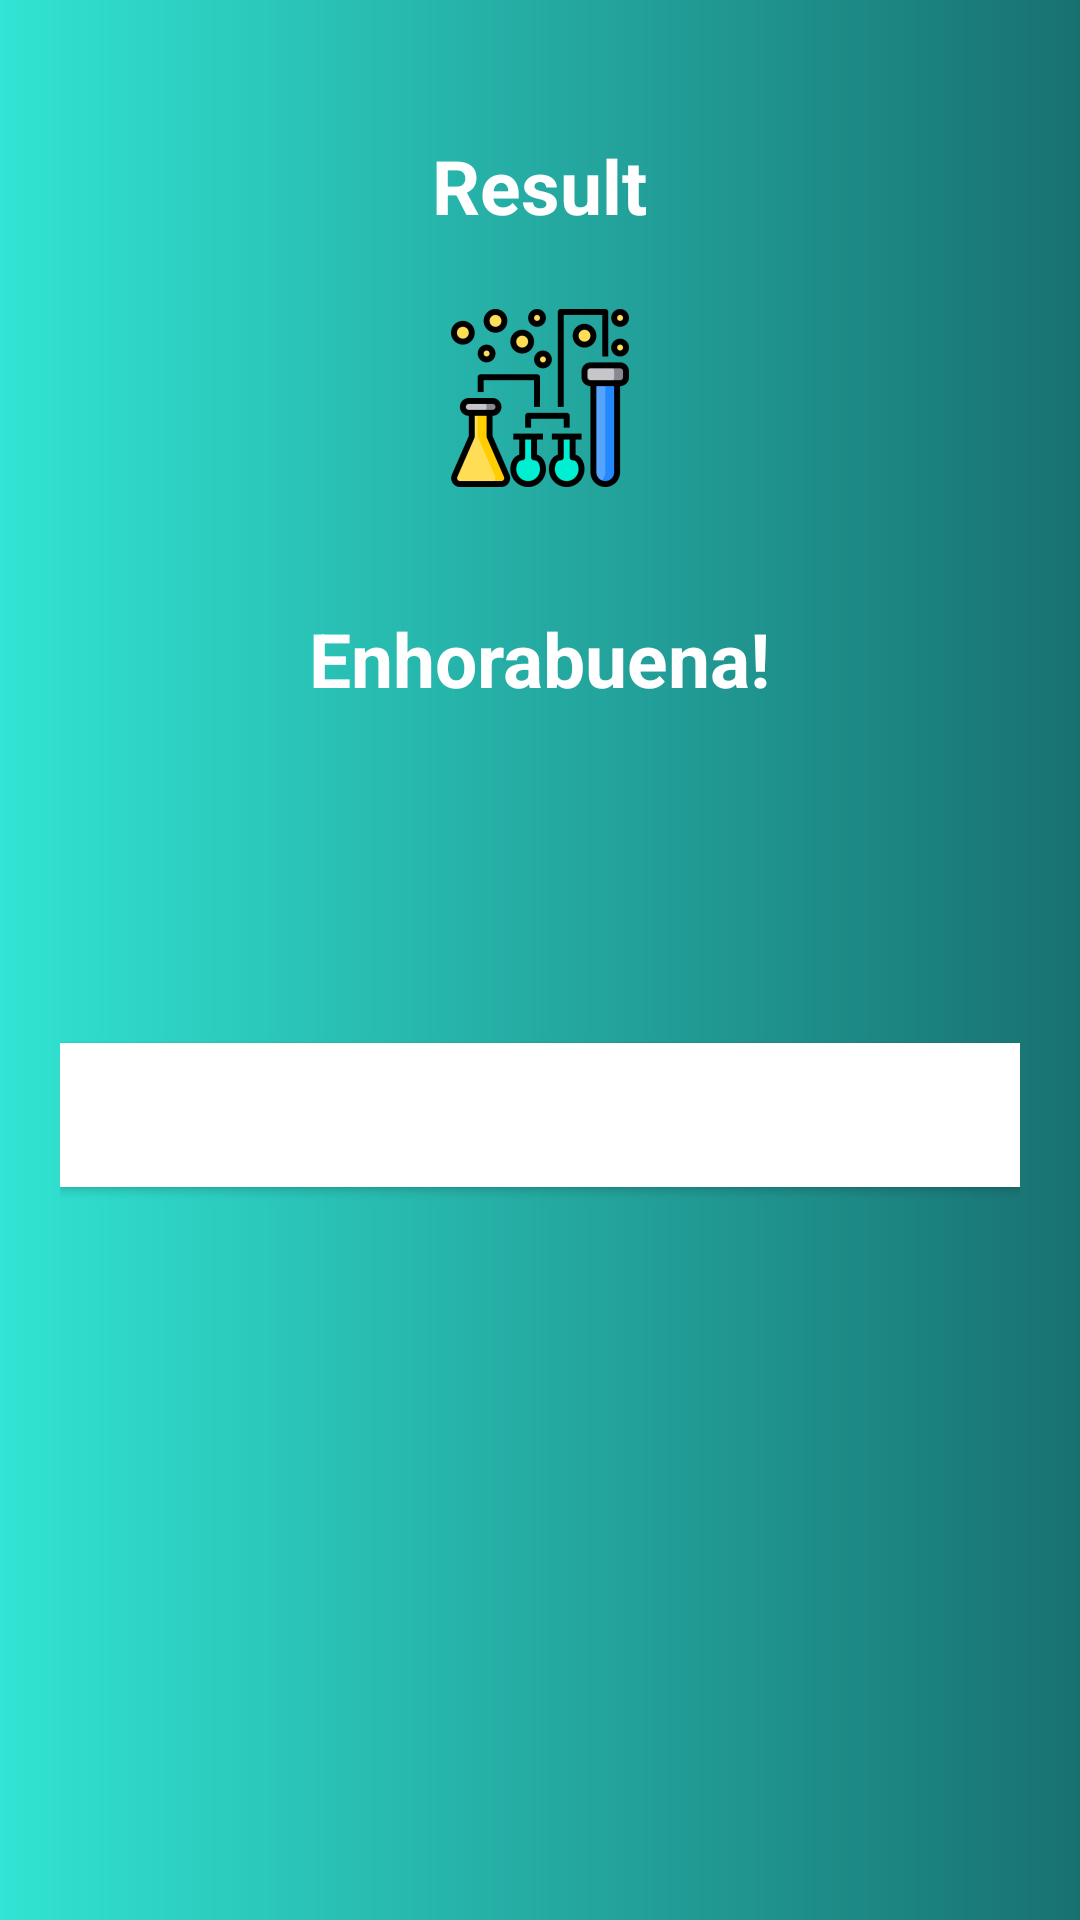

Icon click points for this 1080px x 1920px phone screenshot, format (x,y):
chemistry: (503,398)
